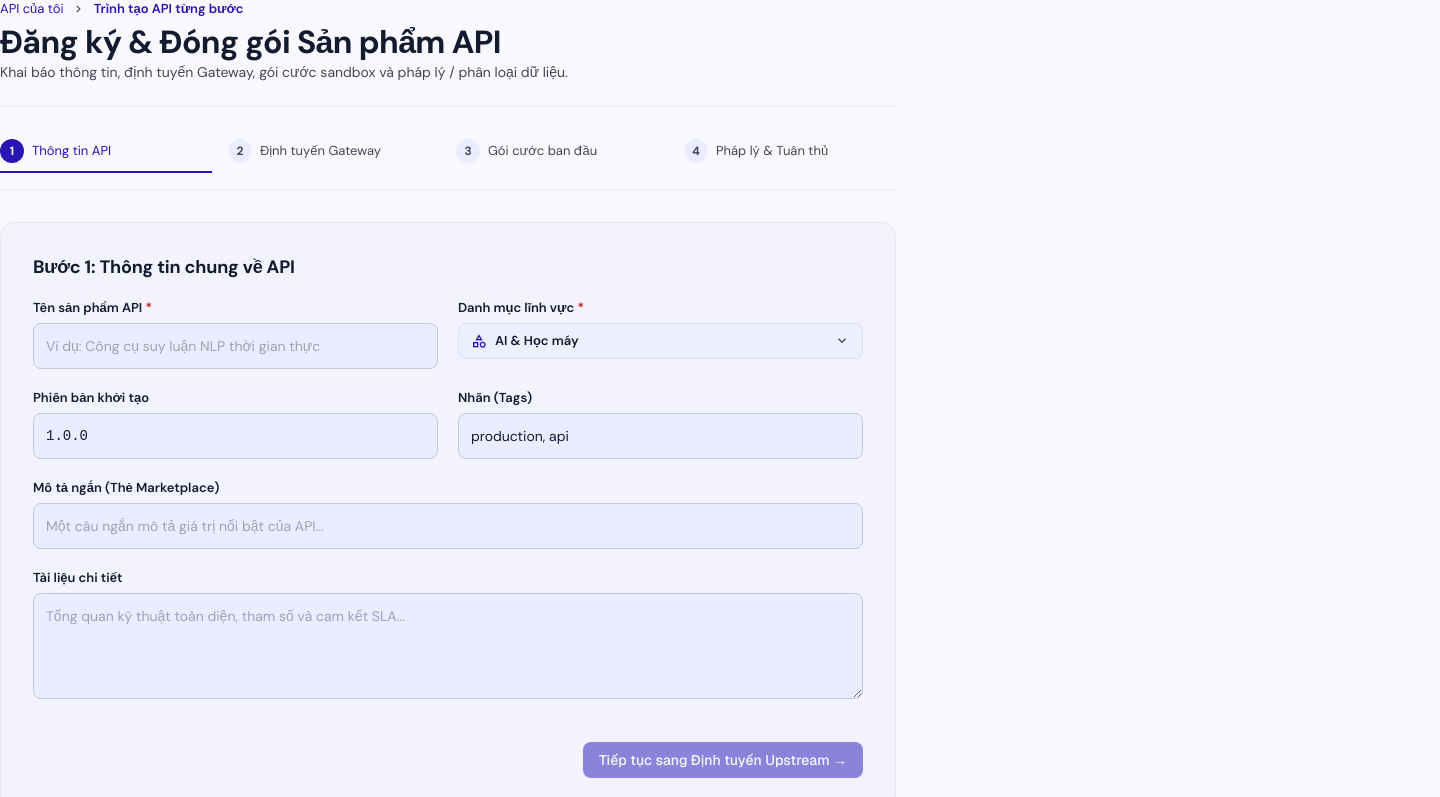
Test: CreateApiWizardPage (Finding F2 fail-closed agreement tests) › resets acceptance checkbox when agreement version changes
The width and height of the screenshot is (1440, 797).
Type "Test Weather API" into the field with placeholder "Ví dụ: Công cụ suy luận NLP thời gian thực".
click(236, 346); type("Test Weather API")  # box top-left (33, 323), bottom-right (438, 369)
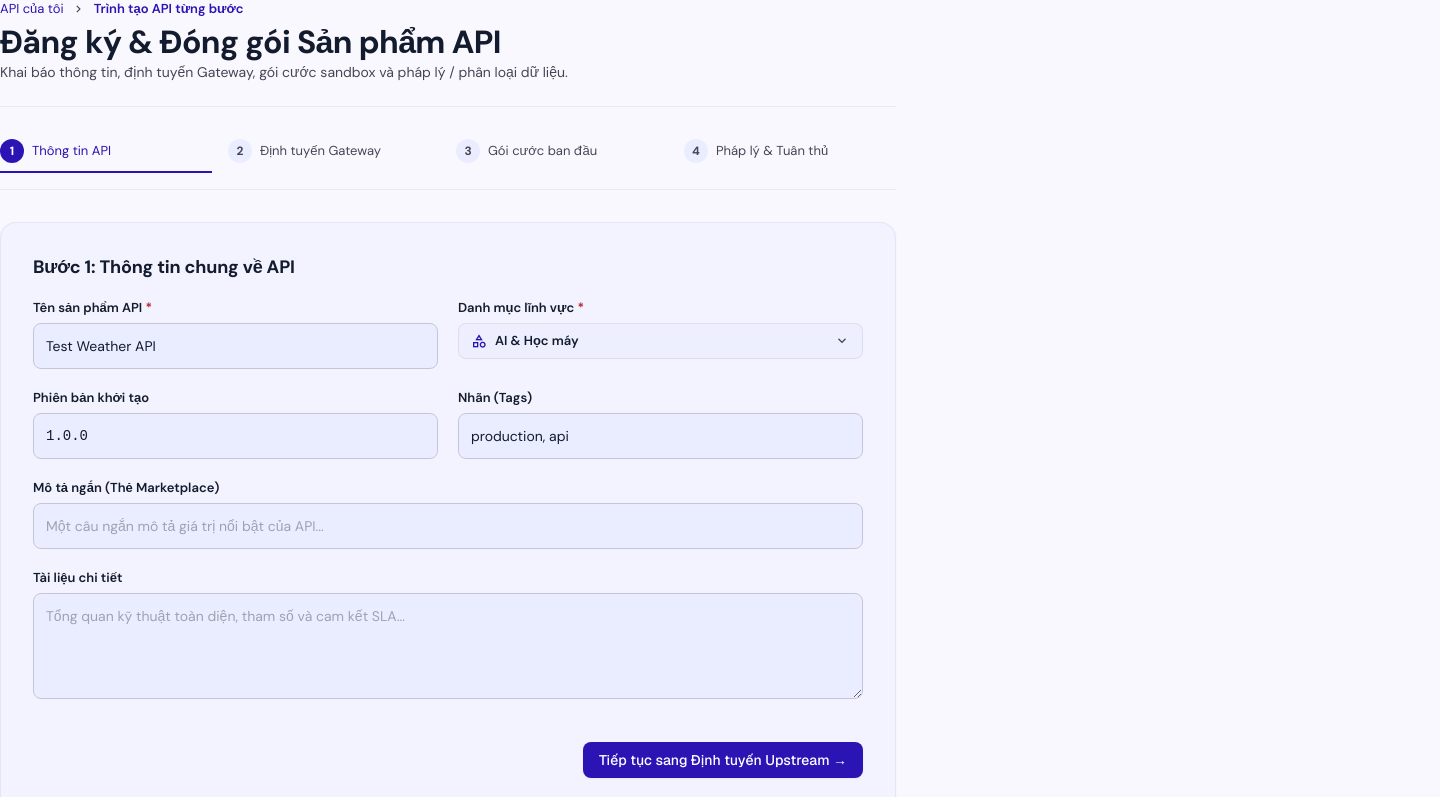
Click the button "Tiếp tục sang Định tuyến Upstream →".
click(723, 760)  # box top-left (583, 742), bottom-right (863, 778)
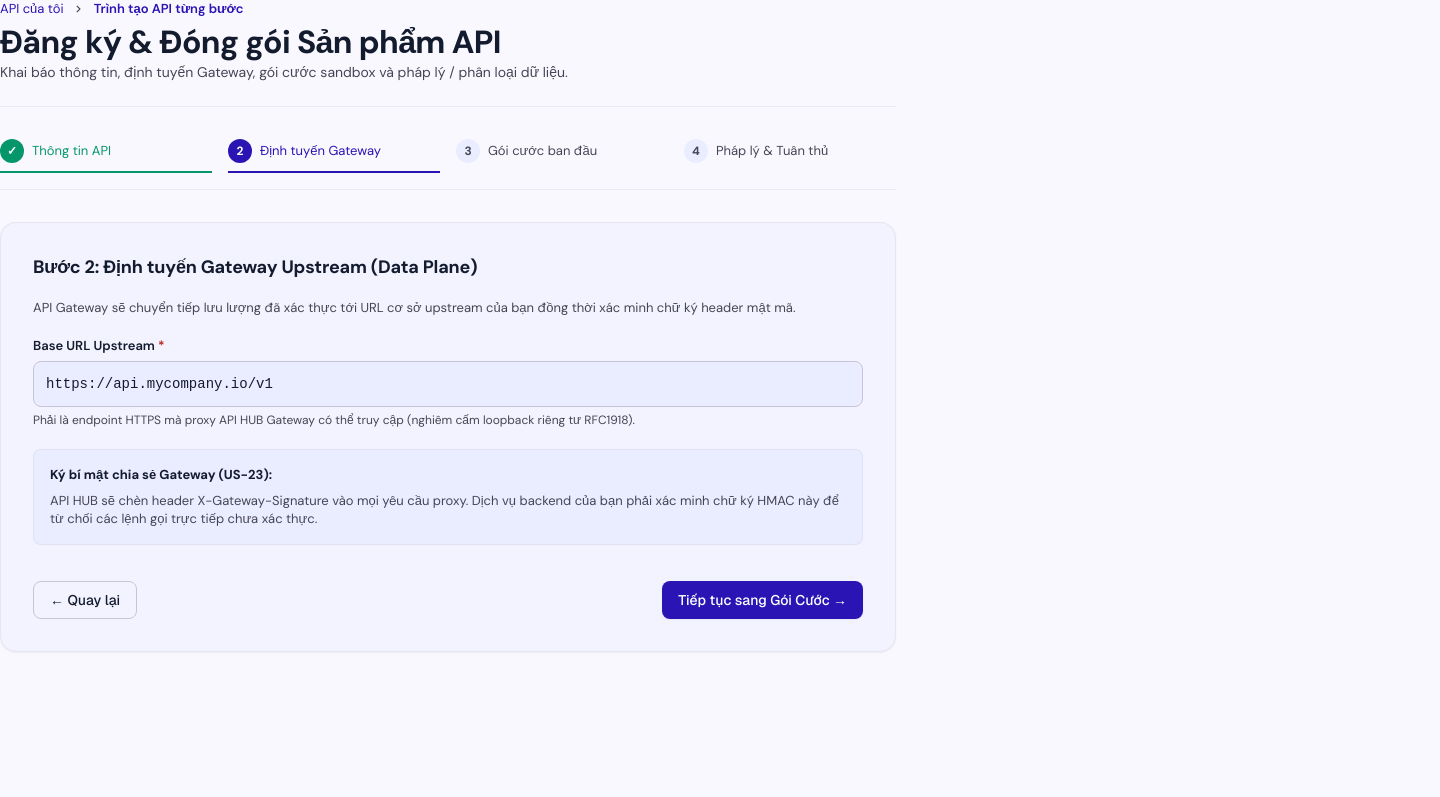
Check: the button "Tiếp tục sang Gói Cước →" is shown
Click the button "Tiếp tục sang Gói Cước →".
click(763, 600)  # box top-left (662, 581), bottom-right (863, 619)
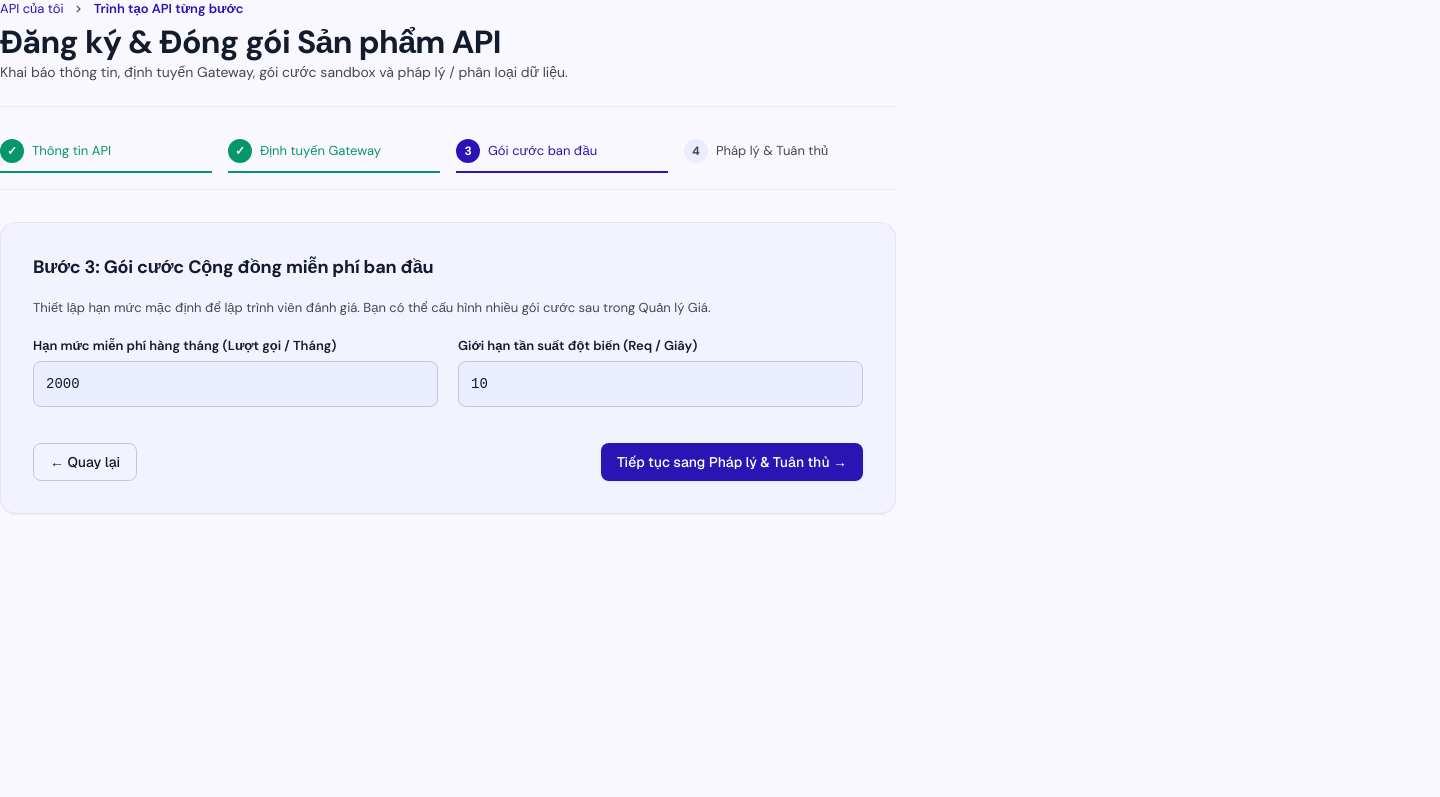
Check: the button "Tiếp tục sang Pháp lý & Tuân thủ →" is shown
Click the button "Tiếp tục sang Pháp lý & Tuân thủ →".
click(732, 462)  # box top-left (601, 443), bottom-right (863, 481)
(page scrolled)
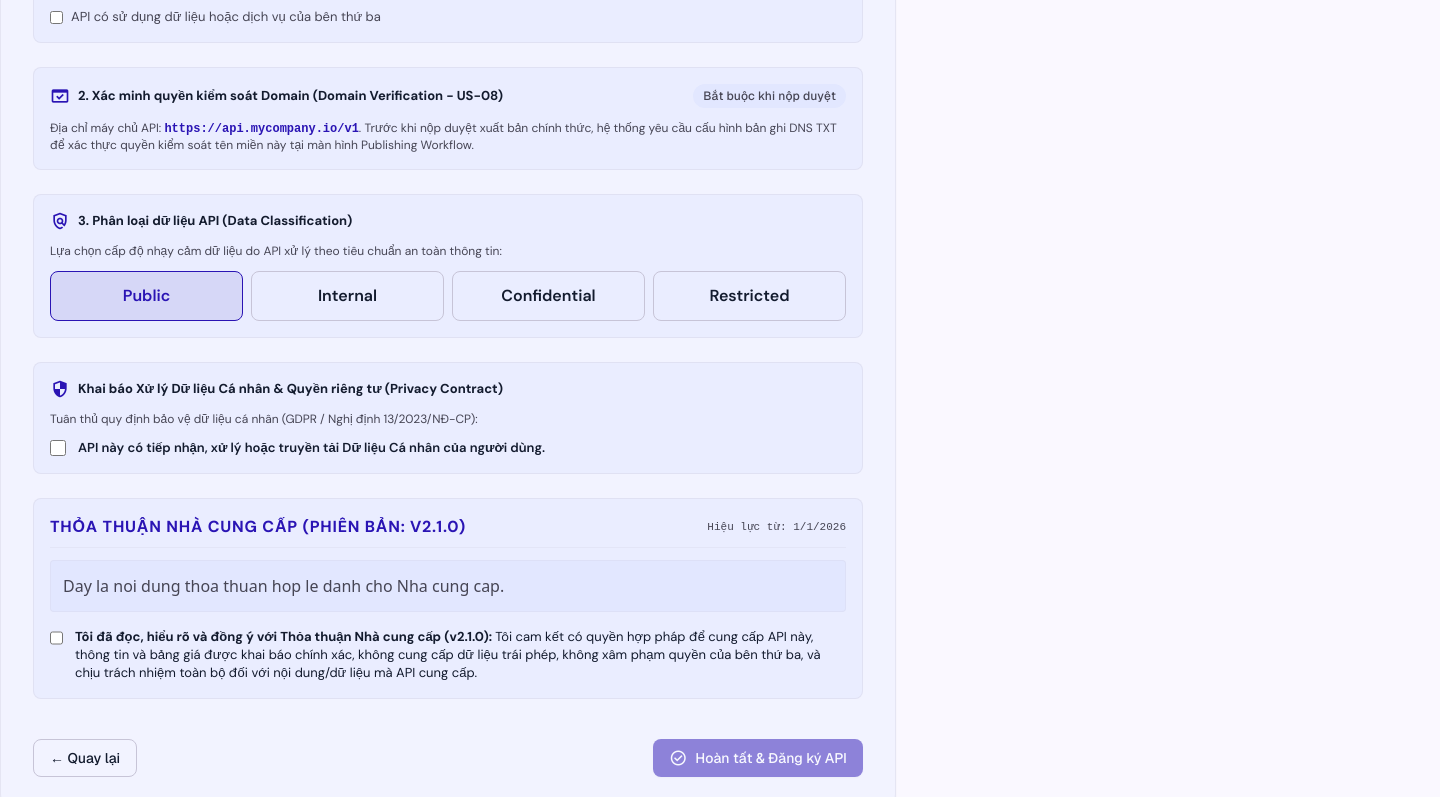
Check: the checkbox labelled "Tôi đã đọc" is enabled
Check: the checkbox labelled "Tôi đã đọc" is not checked
Click the checkbox labelled "Tôi đã đọc".
click(56, 638)  # box top-left (50, 630), bottom-right (63, 646)
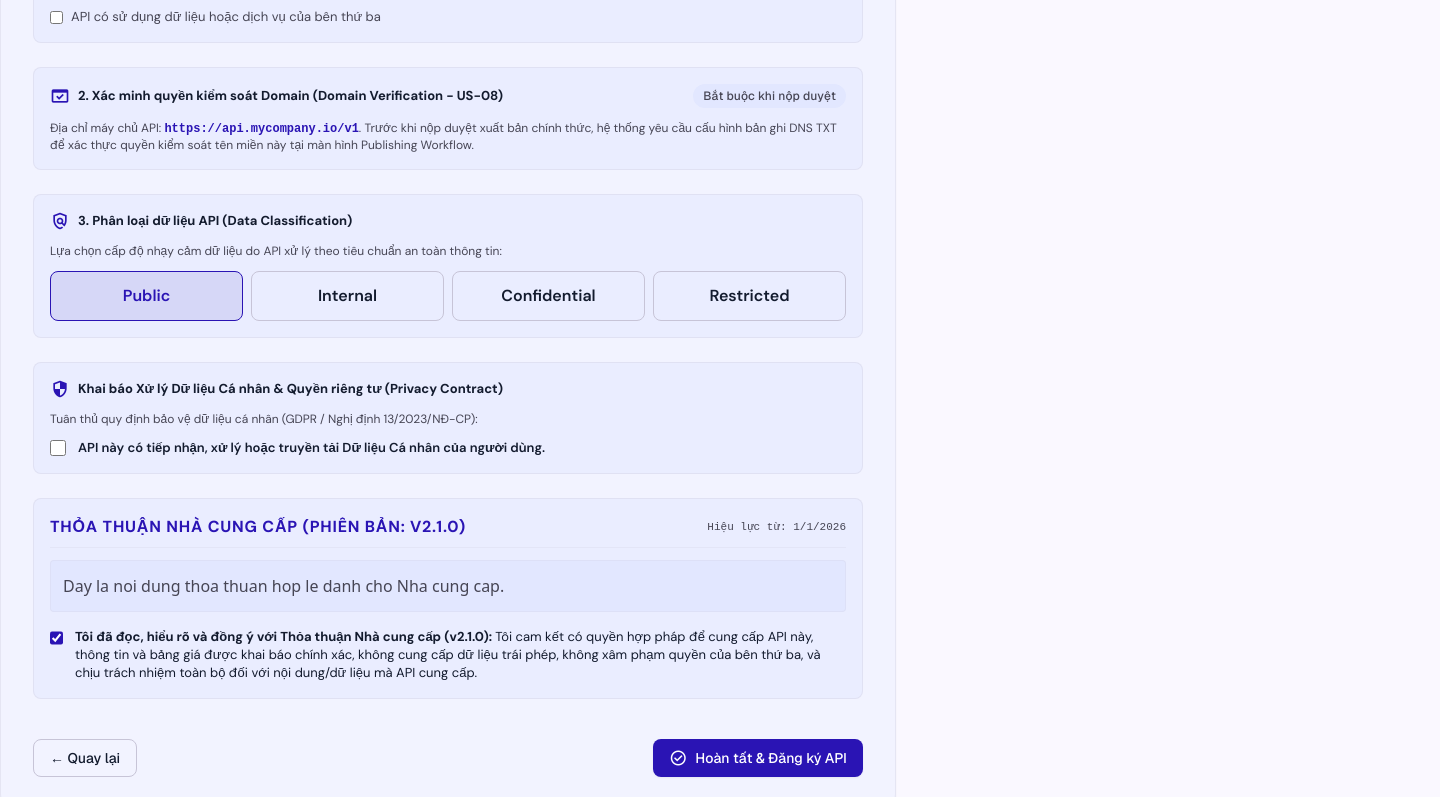
Check: the checkbox labelled "Tôi đã đọc" is checked, box top-left (50, 630), bottom-right (63, 646)
Click the button "Hoàn tất & Đăng ký API".
click(758, 758)  # box top-left (653, 739), bottom-right (863, 777)
(page scrolled)
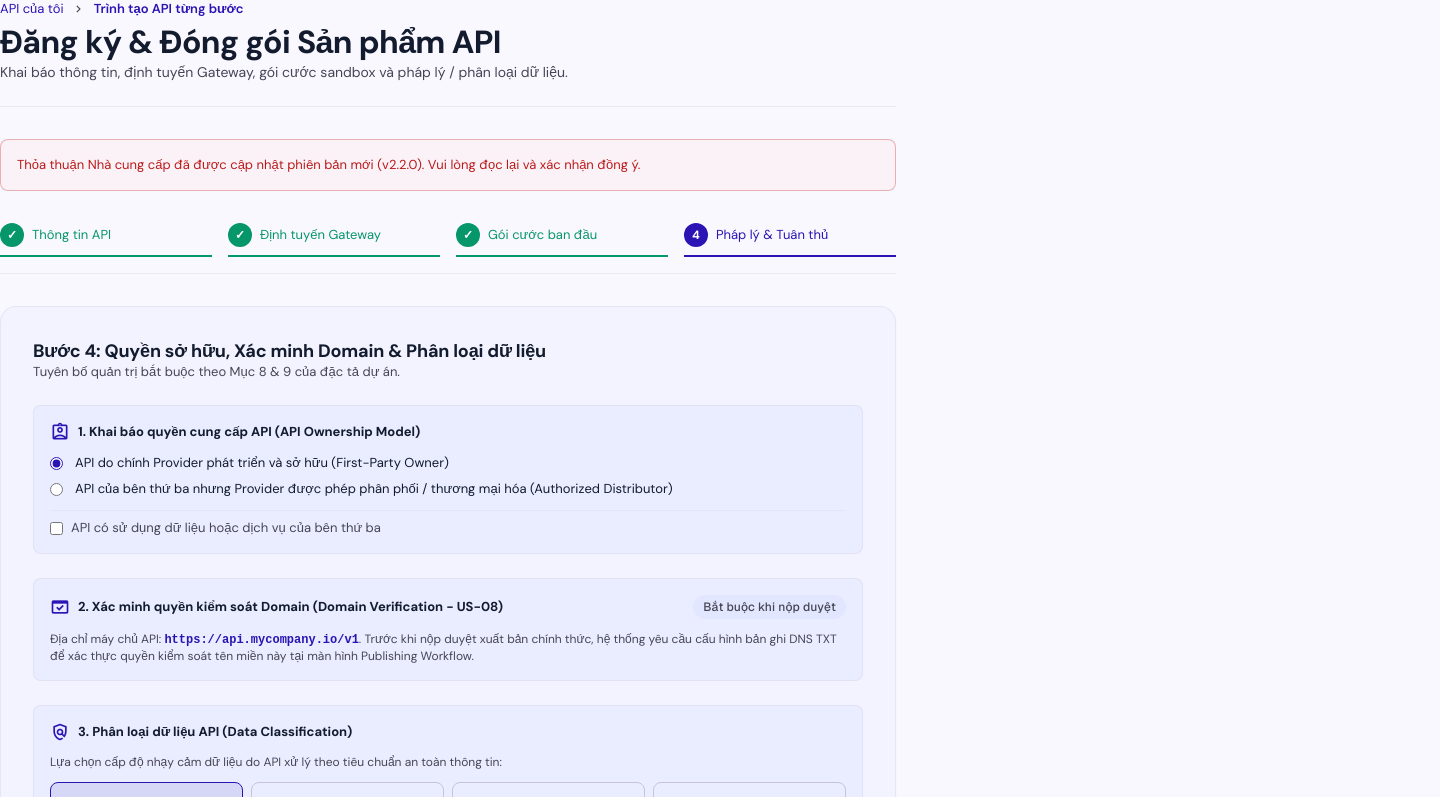
Check: the text "Thỏa thuận Nhà cung cấp đã được cập nhật phiên bản mới (v2.2.0)" is shown, box top-left (17, 156), bottom-right (640, 173)
